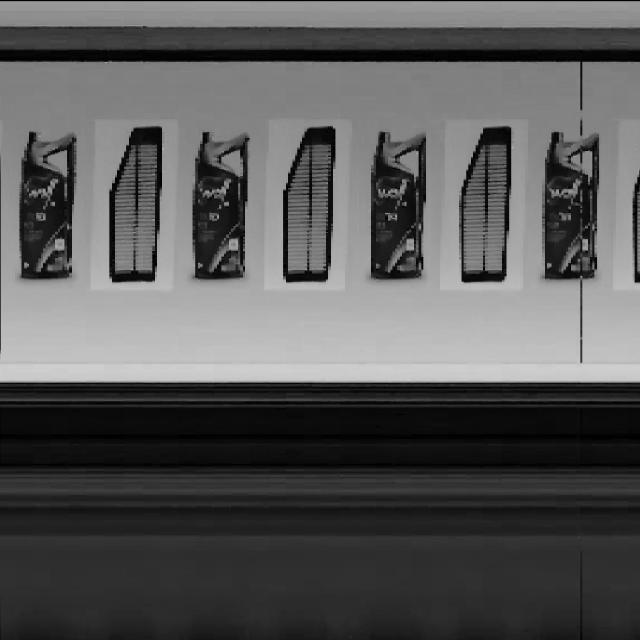air_filter: (100, 120, 165, 288), (277, 122, 341, 288), (454, 124, 516, 284)
motor_oil: (365, 123, 436, 295), (13, 125, 79, 290), (540, 128, 601, 286)
